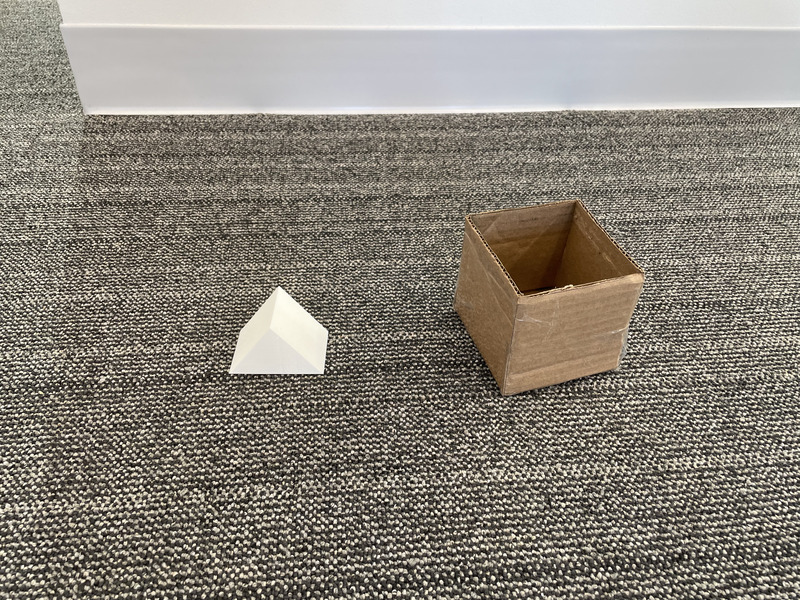payload2: (219, 281, 344, 396)
payload3: (449, 193, 653, 402)
